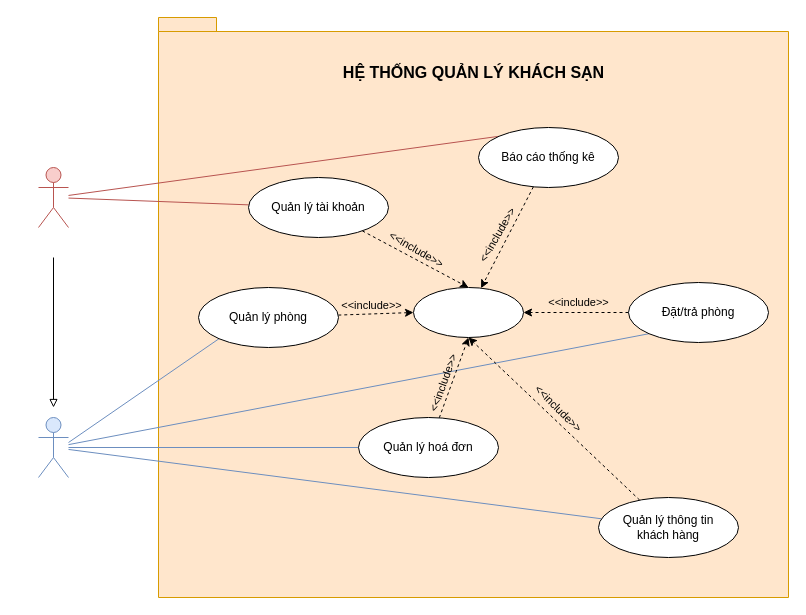
Some shapes in this 806 by 615 pixel diagram are drawn without their labels. Here are the shapes that lost their labels. From the top down, the centre of each, then its label:
(x=53, y=197): Quản Trị Viên
(x=468, y=312): Đăng nhập
(x=53, y=447): Nhân Viên
